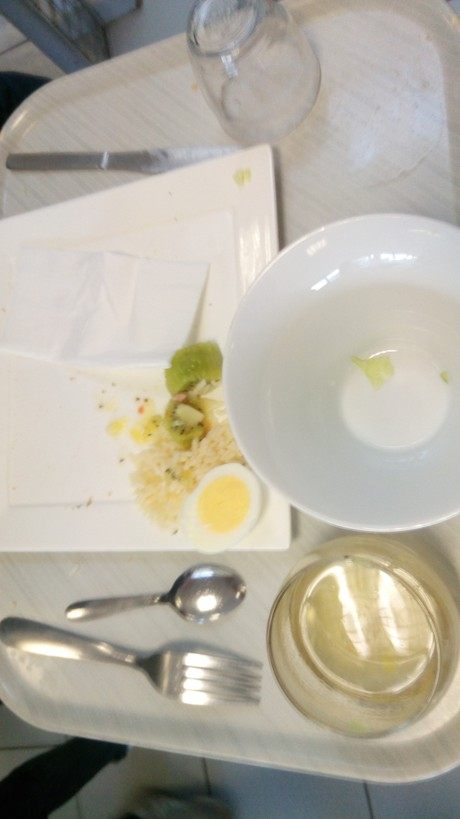cup: (174, 1, 342, 131)
cutlery: (1, 561, 270, 730), (11, 130, 263, 176)
orga: (148, 352, 256, 553)
